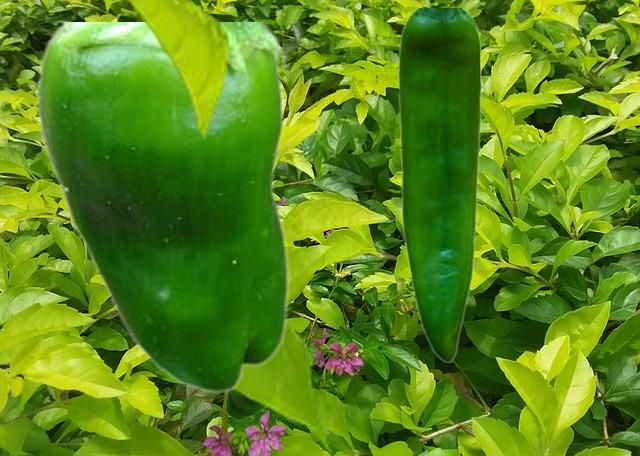green_chili: (35, 22, 288, 393), (397, 8, 481, 361)
